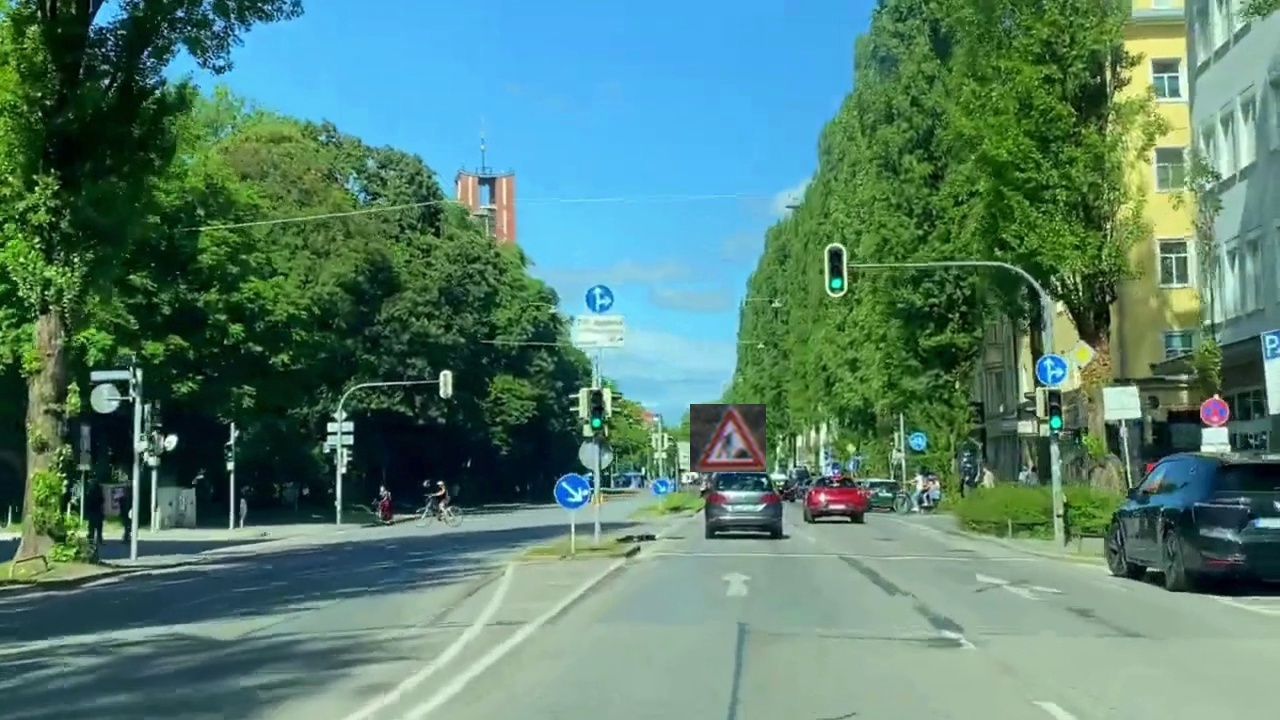Road work: (690, 404, 766, 472)
